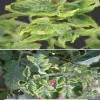Tomato leaf yellow virus: (9, 1, 86, 15), (28, 24, 71, 38), (33, 15, 56, 25), (23, 65, 32, 79), (28, 81, 37, 94), (40, 58, 50, 68), (56, 76, 64, 88)
